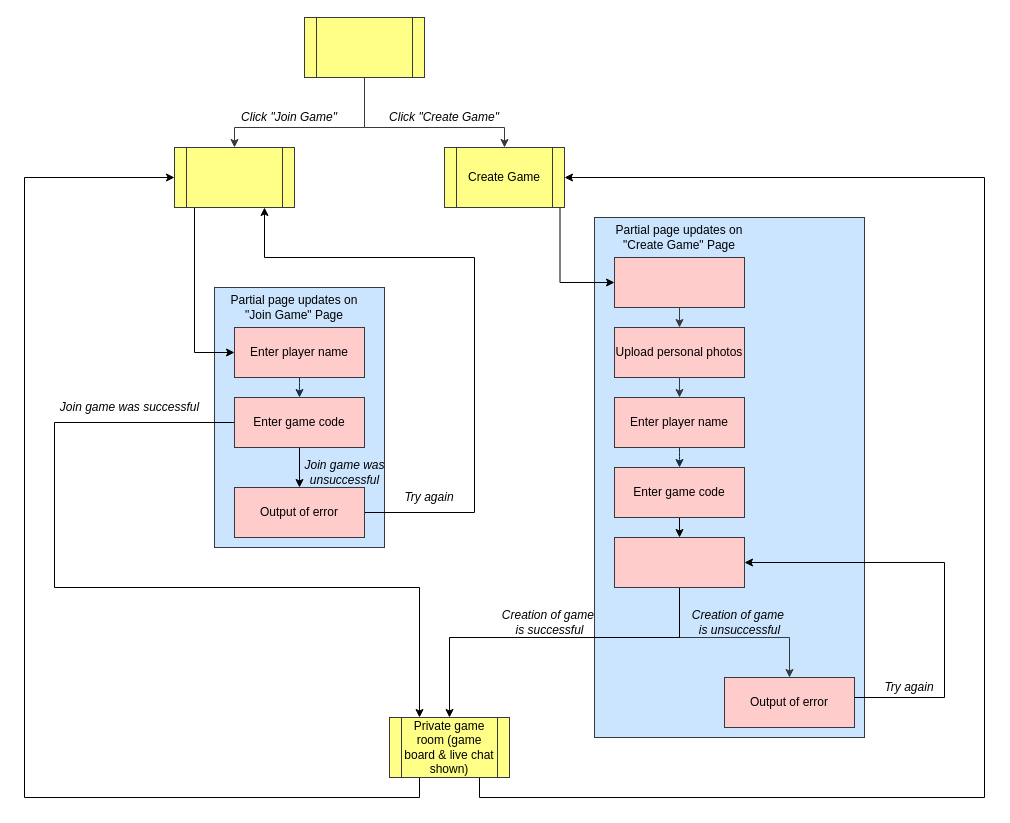
This 1010x823 diagram has some shape labels left out. Each missing label, with the centre of its shape:
"Create Game" appears: (x=679, y=562)
Choose a size of game board: (x=679, y=282)
Home: (x=364, y=47)
Join Game: (x=234, y=177)
